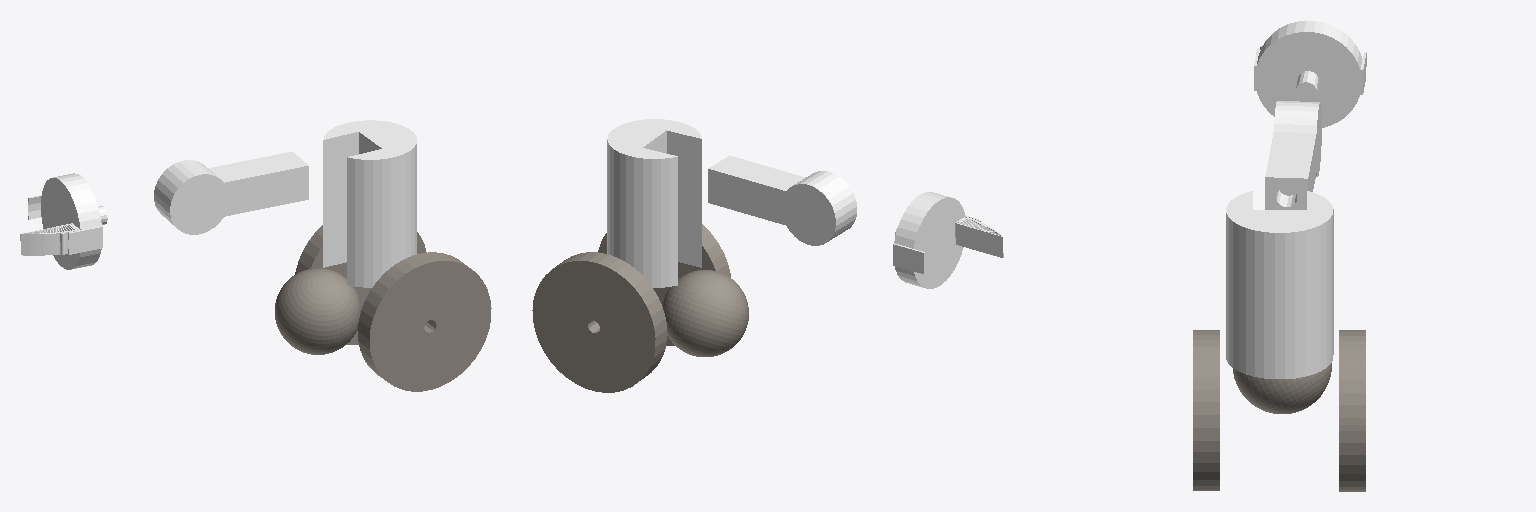
URDF robot description (car2):
<?xml version="1.0" encoding="utf-8"?>
<!-- This URDF was automatically created by SolidWorks to URDF Exporter! Originally created by [author] ([email redacted]) 
     Commit Version: 1.6.0-4-g7f85cfe  Build Version: 1.6.7995.38578
     For more information, please see http://wiki.ros.org/sw_urdf_exporter -->
<robot
  name="car2">
  <link
    name="base_link">
    <inertial>
      <origin
        xyz="0.0038977 -8.1315E-19 0.021661"
        rpy="0 0 0" />
      <mass
        value="30.028" />
      <inertia
        ixx="0.18295"
        ixy="-1.7347E-18"
        ixz="0.0056359"
        iyy="0.17531"
        iyz="1.2969E-19"
        izz="0.33506" />
    </inertial>
    <visual>
      <origin
        xyz="0 0 0"
        rpy="0 0 0" />
      <geometry>
        <mesh
          filename="package://car2/meshes/base_link.STL" />
      </geometry>
      <material
        name="">
        <color
          rgba="0.77647 0.75686 0.73725 1" />
      </material>
    </visual>
    <collision>
      <origin
        xyz="0 0 0"
        rpy="0 0 0" />
      <geometry>
        <mesh
          filename="package://car2/meshes/base_link.STL" />
      </geometry>
    </collision>
  </link>
  <link
    name="castwheel">
    <inertial>
      <origin
        xyz="-0.034033 0.0046637 -0.047711"
        rpy="0 0 0" />
      <mass
        value="1.957" />
      <inertia
        ixx="0.0012525"
        ixy="1.0164E-19"
        ixz="-1.0842E-19"
        iyy="0.0012525"
        iyz="-2.7105E-20"
        izz="0.0012525" />
    </inertial>
    <visual>
      <origin
        xyz="0 0 0"
        rpy="0 0 0" />
      <geometry>
        <mesh
          filename="package://car2/meshes/castwheel.STL" />
      </geometry>
      <material
        name="">
        <color
          rgba="0.64706 0.61961 0.58824 1" />
      </material>
    </visual>
    <collision>
      <origin
        xyz="0 0 0"
        rpy="0 0 0" />
      <geometry>
        <mesh
          filename="package://car2/meshes/castwheel.STL" />
      </geometry>
    </collision>
  </link>
  <joint
    name="castwheel_joint"
    type="continuous">
    <origin
      xyz="-0.0164468565720474 -0.00527324448375706 -0.025"
      rpy="1.79986954685685 -0.424347021577185 0.792685410767129" />
    <parent
      link="base_link" />
    <child
      link="castwheel" />
    <axis
      xyz="0.578881459990206 -0.0793276054052651 0.811543828945962" />
  </joint>
  <link
    name="leftwheel">
    <inertial>
      <origin
        xyz="2.3592E-16 4.1633E-17 0.0098391"
        rpy="0 0 0" />
      <mass
        value="0.3096" />
      <inertia
        ixx="9.7396E-05"
        ixy="5.0822E-21"
        ixz="-7.6233E-20"
        iyy="9.7396E-05"
        iyz="1.6411E-20"
        izz="0.00017415" />
    </inertial>
    <visual>
      <origin
        xyz="0 0 0"
        rpy="0 0 0" />
      <geometry>
        <mesh
          filename="package://car2/meshes/leftwheel.STL" />
      </geometry>
      <material
        name="">
        <color
          rgba="0.64706 0.61961 0.58824 1" />
      </material>
    </visual>
    <collision>
      <origin
        xyz="0 0 0"
        rpy="0 0 0" />
      <geometry>
        <mesh
          filename="package://car2/meshes/leftwheel.STL" />
      </geometry>
    </collision>
  </link>
  <joint
    name="leftwheel_joint"
    type="continuous">
    <origin
      xyz="0.055 -0.110423702246605 -0.035"
      rpy="-1.5707963267949 -0.105014840444308 3.14159265358979" />
    <parent
      link="base_link" />
    <child
      link="leftwheel" />
    <axis
      xyz="0 0 1" />
  </joint>
  <link
    name="rightwheel">
    <inertial>
      <origin
        xyz="-1.6653E-16 4.1633E-17 -0.0098391"
        rpy="0 0 0" />
      <mass
        value="0.3096" />
      <inertia
        ixx="9.7396E-05"
        ixy="3.3881E-21"
        ixz="1.1858E-20"
        iyy="9.7396E-05"
        iyz="-6.2892E-20"
        izz="0.00017415" />
    </inertial>
    <visual>
      <origin
        xyz="0 0 0"
        rpy="0 0 0" />
      <geometry>
        <mesh
          filename="package://car2/meshes/rightwheel.STL" />
      </geometry>
      <material
        name="">
        <color
          rgba="0.64706 0.61961 0.58824 1" />
      </material>
    </visual>
    <collision>
      <origin
        xyz="0 0 0"
        rpy="0 0 0" />
      <geometry>
        <mesh
          filename="package://car2/meshes/rightwheel.STL" />
      </geometry>
    </collision>
  </link>
  <joint
    name="rightwheel_joint"
    type="continuous">
    <origin
      xyz="0.055 0.110423702246602 -0.035"
      rpy="1.5707963267949 -0.261061307663736 0" />
    <parent
      link="base_link" />
    <child
      link="rightwheel" />
    <axis
      xyz="0 0 1" />
  </joint>
  <link
    name="link1">
    <inertial>
      <origin
        xyz="0.020912 -0.0016438 0.15"
        rpy="0 0 0" />
      <mass
        value="7.0138" />
      <inertia
        ixx="0.075289"
        ixy="-0.00078402"
        ixz="5.5973E-18"
        iyy="0.065376"
        iyz="-6.1817E-18"
        izz="0.035458" />
    </inertial>
    <visual>
      <origin
        xyz="0 0 0"
        rpy="0 0 0" />
      <geometry>
        <mesh
          filename="package://car2/meshes/link1.STL" />
      </geometry>
      <material
        name="">
        <color
          rgba="1 1 1 0.35" />
      </material>
    </visual>
    <collision>
      <origin
        xyz="0 0 0"
        rpy="0 0 0" />
      <geometry>
        <mesh
          filename="package://car2/meshes/link1.STL" />
      </geometry>
    </collision>
  </link>
  <joint
    name="joint1"
    type="revolute">
    <origin
      xyz="0 0 0.05"
      rpy="0 0 0" />
    <parent
      link="base_link" />
    <child
      link="link1" />
    <axis
      xyz="0 0 1" />
    <limit
      lower="-3.14"
      upper="3.14"
      effort="10.0"
      velocity="1.5" />
  </joint>
  <link
    name="link2">
    <inertial>
      <origin
        xyz="-0.13517 2.2454E-16 0"
        rpy="0 0 0" />
      <mass
        value="1.2926" />
      <inertia
        ixx="0.0033047"
        ixy="-1.0097E-18"
        ixz="-1.8814E-19"
        iyy="0.012724"
        iyz="4.5661E-19"
        izz="0.012724" />
    </inertial>
    <visual>
      <origin
        xyz="0 0 0"
        rpy="0 0 0" />
      <geometry>
        <mesh
          filename="package://car2/meshes/link2.STL" />
      </geometry>
      <material
        name="">
        <color
          rgba="1 1 1 0.35" />
      </material>
    </visual>
    <collision>
      <origin
        xyz="0 0 0"
        rpy="0 0 0" />
      <geometry>
        <mesh
          filename="package://car2/meshes/link2.STL" />
      </geometry>
    </collision>
  </link>
  <joint
    name="joint2"
    type="prismatic">
    <origin
      xyz="0 0 0.25"
      rpy="0 0 -0.078442" />
    <parent
      link="link1" />
    <child
      link="link2" />
    <axis
      xyz="0 0 1" />
    <limit
      lower="-0.2"
      upper="0"
      effort="50.0"
      velocity="1.5" />
  </joint>
  <link
    name="link3">
    <inertial>
      <origin
        xyz="0.094255 1.3965E-16 1.6653E-16"
        rpy="0 0 0" />
      <mass
        value="2.2879" />
      <inertia
        ixx="0.0027483"
        ixy="-1.9343E-17"
        ixz="1.3094E-17"
        iyy="0.022648"
        iyz="9.6163E-19"
        izz="0.02234" />
    </inertial>
    <visual>
      <origin
        xyz="0 0 0"
        rpy="0 0 0" />
      <geometry>
        <mesh
          filename="package://car2/meshes/link3.STL" />
      </geometry>
      <material
        name="">
        <color
          rgba="1 1 1 0.35" />
      </material>
    </visual>
    <collision>
      <origin
        xyz="0 0 0"
        rpy="0 0 0" />
      <geometry>
        <mesh
          filename="package://car2/meshes/link3.STL" />
      </geometry>
    </collision>
  </link>
  <joint
    name="joint3"
    type="prismatic">
    <origin
      xyz="-0.3 0 0"
      rpy="0 0 0" />
    <parent
      link="link2" />
    <child
      link="link3" />
    <axis
      xyz="1 0 0" />
    <limit
      lower="-0.26"
      upper="0"
      effort="10.0"
      velocity="1.5" />
  </joint>
  <link
    name="link4">
    <inertial>
      <origin
        xyz="-0.076653 5.6379E-17 0"
        rpy="0 0 0" />
      <mass
        value="2.5617" />
      <inertia
        ixx="0.0037141"
        ixy="-1.3475E-17"
        ixz="9.8995E-18"
        iyy="0.023523"
        iyz="-3.0609E-19"
        izz="0.022599" />
    </inertial>
    <visual>
      <origin
        xyz="0 0 0"
        rpy="0 0 0" />
      <geometry>
        <mesh
          filename="package://car2/meshes/link4.STL" />
      </geometry>
      <material
        name="">
        <color
          rgba="1 1 1 0.35" />
      </material>
    </visual>
    <collision>
      <origin
        xyz="0 0 0"
        rpy="0 0 0" />
      <geometry>
        <mesh
          filename="package://car2/meshes/link4.STL" />
      </geometry>
    </collision>
  </link>
  <joint
    name="joint4"
    type="revolute">
    <origin
      xyz="-0.1216 0 0"
      rpy="0 0 0" />
    <parent
      link="link3" />
    <child
      link="link4" />
    <axis
      xyz="0 -1 0" />
    <limit
      lower="-1.57"
      upper="1.57"
      effort="10.0"
      velocity="1.5" />
  </joint>
  <link
    name="link5">
    <inertial>
      <origin
        xyz="-0.023077 2.949E-17 1.1102E-16"
        rpy="0 0 0" />
      <mass
        value="1.748" />
      <inertia
        ixx="0.0084172"
        ixy="-1.7076E-18"
        ixz="-1.7897E-18"
        iyy="0.0047344"
        iyz="-4.8944E-20"
        izz="0.0047344" />
    </inertial>
    <visual>
      <origin
        xyz="0 0 0"
        rpy="0 0 0" />
      <geometry>
        <mesh
          filename="package://car2/meshes/link5.STL" />
      </geometry>
      <material
        name="">
        <color
          rgba="1 1 1 0.35" />
      </material>
    </visual>
    <collision>
      <origin
        xyz="0 0 0"
        rpy="0 0 0" />
      <geometry>
        <mesh
          filename="package://car2/meshes/link5.STL" />
      </geometry>
    </collision>
  </link>
  <joint
    name="joint5"
    type="revolute">
    <origin
      xyz="-0.25745 0 0"
      rpy="0 0 0" />
    <parent
      link="link4" />
    <child
      link="link5" />
    <axis
      xyz="-1 0 0" />
    <limit
      lower="-3.14"
      upper="3.14"
      effort="0"
      velocity="1.5" />
  </joint>
  <link
    name="finger1">
    <inertial>
      <origin
        xyz="-0.043191 -0.0022229 1.6653E-16"
        rpy="0 0 0" />
      <mass
        value="0.097614" />
      <inertia
        ixx="3.3639E-05"
        ixy="-1.209E-05"
        ixz="-7.4697E-20"
        iyy="0.0001198"
        iyz="-3.4449E-20"
        izz="0.00011277" />
    </inertial>
    <visual>
      <origin
        xyz="0 0 0"
        rpy="0 0 0" />
      <geometry>
        <mesh
          filename="package://car2/meshes/finger1.STL" />
      </geometry>
      <material
        name="">
        <color
          rgba="1 1 1 0.35" />
      </material>
    </visual>
    <collision>
      <origin
        xyz="0 0 0"
        rpy="0 0 0" />
      <geometry>
        <mesh
          filename="package://car2/meshes/finger1.STL" />
      </geometry>
    </collision>
  </link>
  <joint
    name="fin1"
    type="prismatic">
    <origin
      xyz="-0.05 0.076716 -0.00044365"
      rpy="-0.0057829 0 0" />
    <parent
      link="link5" />
    <child
      link="finger1" />
    <axis
      xyz="0 0.99998 0.0057829" />
    <limit
      lower="-0.05"
      upper="0"
      effort="30.0"
      velocity="1.0" />
  </joint>
  <link
    name="finger2">
    <inertial>
      <origin
        xyz="-0.043191 0.0022229 2.2204E-16"
        rpy="0 0 0" />
      <mass
        value="0.097614" />
      <inertia
        ixx="3.3639E-05"
        ixy="1.209E-05"
        ixz="1.2803E-19"
        iyy="0.0001198"
        iyz="-9.8579E-20"
        izz="0.00011277" />
    </inertial>
    <visual>
      <origin
        xyz="0 0 0"
        rpy="0 0 0" />
      <geometry>
        <mesh
          filename="package://car2/meshes/finger2.STL" />
      </geometry>
      <material
        name="">
        <color
          rgba="1 1 1 0.35" />
      </material>
    </visual>
    <collision>
      <origin
        xyz="0 0 0"
        rpy="0 0 0" />
      <geometry>
        <mesh
          filename="package://car2/meshes/finger2.STL" />
      </geometry>
    </collision>
  </link>
  <joint
    name="fin2"
    type="prismatic">
    <origin
      xyz="-0.05 -0.077005 0.00044532"
      rpy="-0.0057829 0 0" />
    <parent
      link="link5" />
    <child
      link="finger2" />
    <axis
      xyz="0 0.99998 0.0057829" />
    <limit
      lower="0"
      upper="0.05"
      effort="30.0"
      velocity="1.0" />
  </joint>
</robot>

--- Facts derived from the render (not from the file) ---
3 views of the same robot in one strip: view 1: azimuth 30°, elevation 25°; view 2: azimuth 150°, elevation 25°; view 3: azimuth 270°, elevation 25° (orthographic).
Model car2 with 11 links and 10 joints (3 revolute, 3 continuous, 4 prismatic), rooted at base_link, posed every joint at zero.
Visible links, largest first — view 1: leftwheel, link1, link4, castwheel, link5, finger2, rightwheel; view 2: rightwheel, link1, link4, castwheel, link5, leftwheel, finger2; view 3: link1, link5, link4, rightwheel, leftwheel, castwheel.
Boxes of the visible links, x1=… form: leftwheel: x1=358, y1=252, x2=491, y2=391; link1: x1=323, y1=120, x2=416, y2=287; link4: x1=154, y1=151, x2=308, y2=234; castwheel: x1=275, y1=268, x2=360, y2=354; link5: x1=28, y1=173, x2=107, y2=269; finger2: x1=20, y1=223, x2=79, y2=255; rightwheel: x1=295, y1=225, x2=426, y2=344; rightwheel: x1=532, y1=252, x2=666, y2=392; link1: x1=607, y1=119, x2=701, y2=287; link4: x1=708, y1=155, x2=856, y2=245; castwheel: x1=662, y1=270, x2=748, y2=356; link5: x1=893, y1=192, x2=978, y2=288; leftwheel: x1=598, y1=224, x2=730, y2=345; finger2: x1=955, y1=217, x2=1003, y2=257; link1: x1=1226, y1=191, x2=1333, y2=378; link5: x1=1254, y1=20, x2=1366, y2=127; link4: x1=1265, y1=101, x2=1321, y2=209; rightwheel: x1=1339, y1=330, x2=1365, y2=491; leftwheel: x1=1193, y1=330, x2=1219, y2=490; castwheel: x1=1233, y1=363, x2=1331, y2=413.
Bounding box of the posed robot: 1.06 × 0.3216 × 0.5846 m (x, y, z).
7 mesh visuals loaded from 11 distinct referenced files (7 binary STL); not drawn: 4 (reference not matched to a file when rendering).